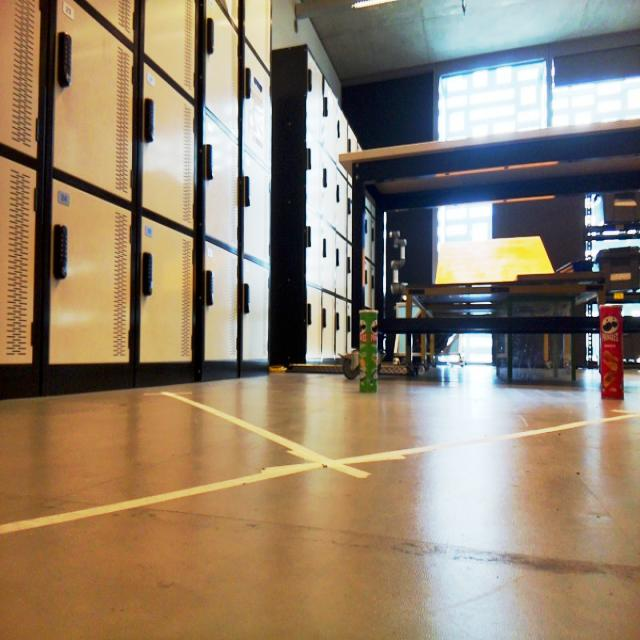greenpringles: (350, 297, 384, 403)
redpringles: (589, 299, 629, 410)
